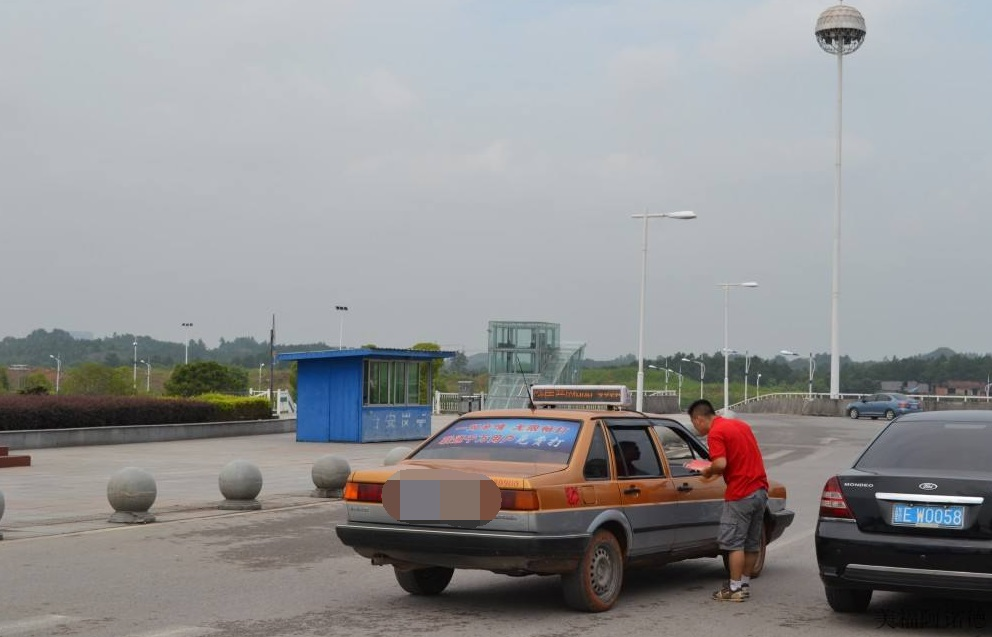taxi: (340, 386, 795, 616)
